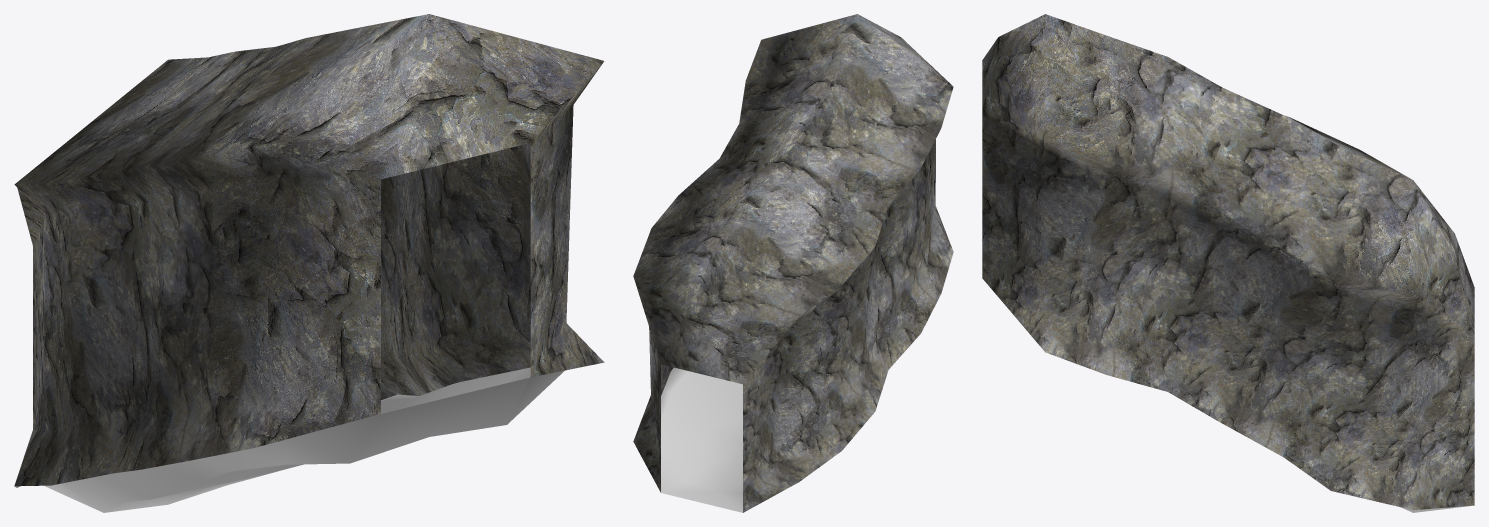
The model's file is RockyTunnel3.FBX.
3 views of the same model, side by side, from view 1: azimuth 30°, elevation 25°; view 2: azimuth 150°, elevation 25°; view 3: azimuth 270°, elevation 25° (orthographic). The views are drawn at different scales.
Parts seen in each view (by area): view 1: Object11; view 2: Object11; view 3: Object11.
Boxes of the visible parts, left/top/right/bottom form: Object11: left=14, top=14, right=604, bottom=512; Object11: left=633, top=14, right=953, bottom=512; Object11: left=982, top=14, right=1474, bottom=512.
Bounding box in the file's own units: 636 × 1085 × 1003.
